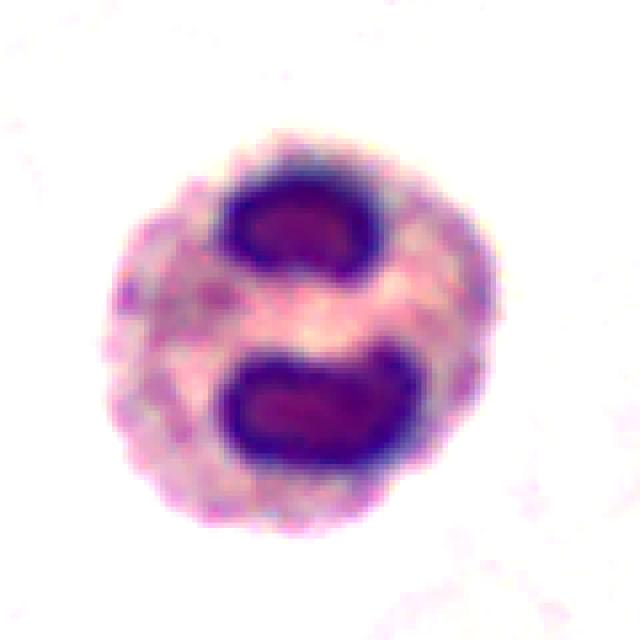WBC: (80, 117, 528, 560)
